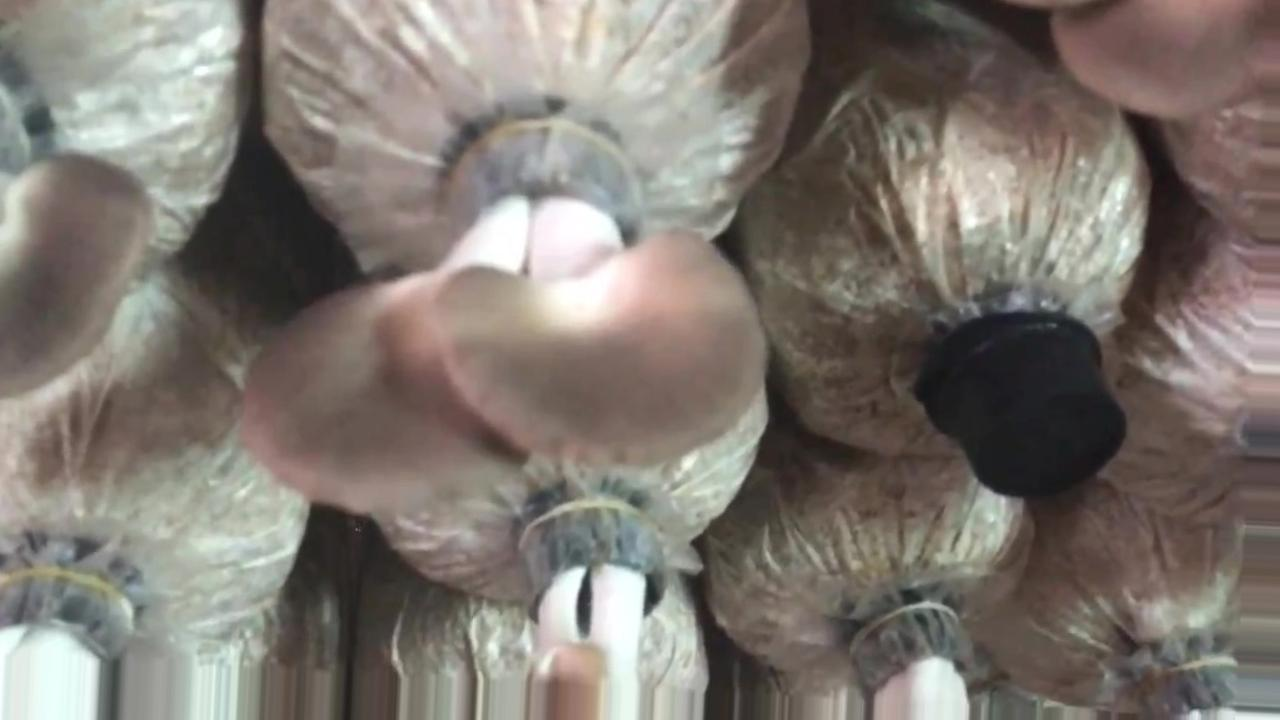nam: (241, 113, 763, 518), (1, 135, 150, 393), (527, 507, 653, 720), (1050, 10, 1280, 123)
